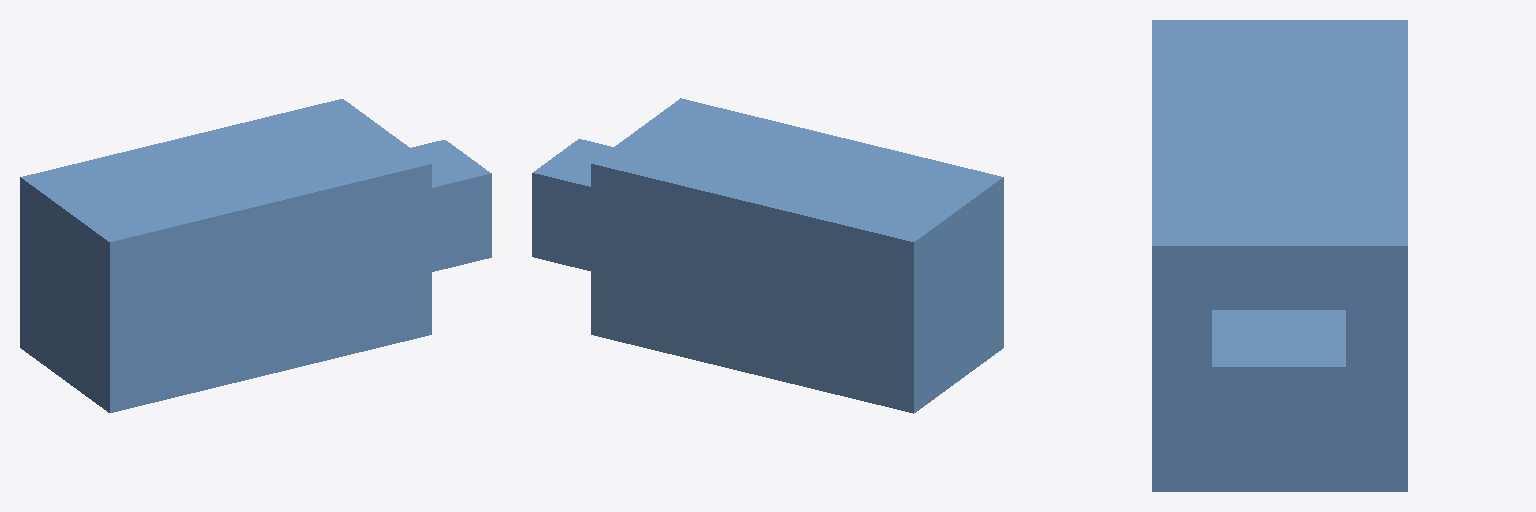
robot.urdf — board:
<?xml version="1.0" encoding="utf-8"?>
<!-- This URDF was automatically created by SolidWorks to URDF Exporter! Originally created by [author] ([email redacted]) 
     Commit Version: 1.6.0-4-g7f85cfe  Build Version: 1.6.7995.38578
     For more information, please see http://wiki.ros.org/sw_urdf_exporter -->
<robot name="board">
  <!-- <link name="world"/> -->

  <link
    name="base_link">
    <inertial>
      <origin
        xyz="0 0 0"
        rpy="0 0 0" />
      <mass
        value="2000" />
      <inertia
        ixx="100"
        ixy="0"
        ixz="0"
        iyy="100"
        iyz="0"
        izz="50" />
    </inertial>
    <visual>
      <origin
        xyz="0 0 0"
        rpy="0 0 0" />
      <geometry>
        <mesh
          filename="../meshes/AVA/boardWithAHole.obj"
          scale="0.001 0.001 0.001" />
      </geometry>
      <material
        name="">
        <color
          rgba="0.509803921568627 0.666666666666667 0.83921568627451 1" />
      </material>
    </visual>
    <collision>
      <origin
        xyz="0 0 0"
        rpy="0 0 0" />
      <geometry>
        <mesh
          filename="../meshes/AVA/boardWithAHole.obj"
          scale="0.001 0.001 0.001" />
      </geometry>
      <material name="">
        <contact name="rubber"/>
      </material>
    </collision>
  </link>
</robot>

--- Facts derived from the render (not from the file) ---
Views: 3 orthographic renders of the robot side by side, from view 1: azimuth 30°, elevation 25°; view 2: azimuth 150°, elevation 25°; view 3: azimuth 270°, elevation 25°.
Model board with 1 links and 0 joints (none), rooted at base_link, posed all joints at 0.
Visible links, largest first — view 1: base_link; view 2: base_link; view 3: base_link.
Link boxes in pixels (x1,y1,x2,y2): base_link: (20,99,491,412); base_link: (532,98,1003,413); base_link: (1152,20,1407,491).
Bounding box of the posed robot: 2.5 × 0.9586 × 1.01 m (x, y, z).
1 mesh visuals loaded from 1 distinct referenced files (1 OBJ).
